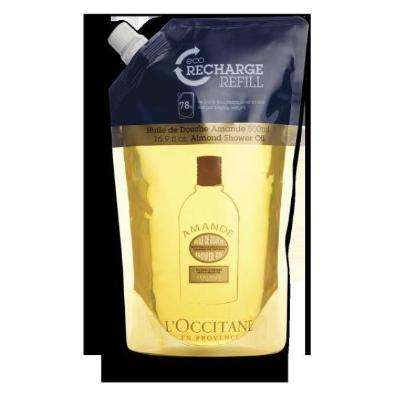Plastic Packaging: (101, 8, 310, 358)
